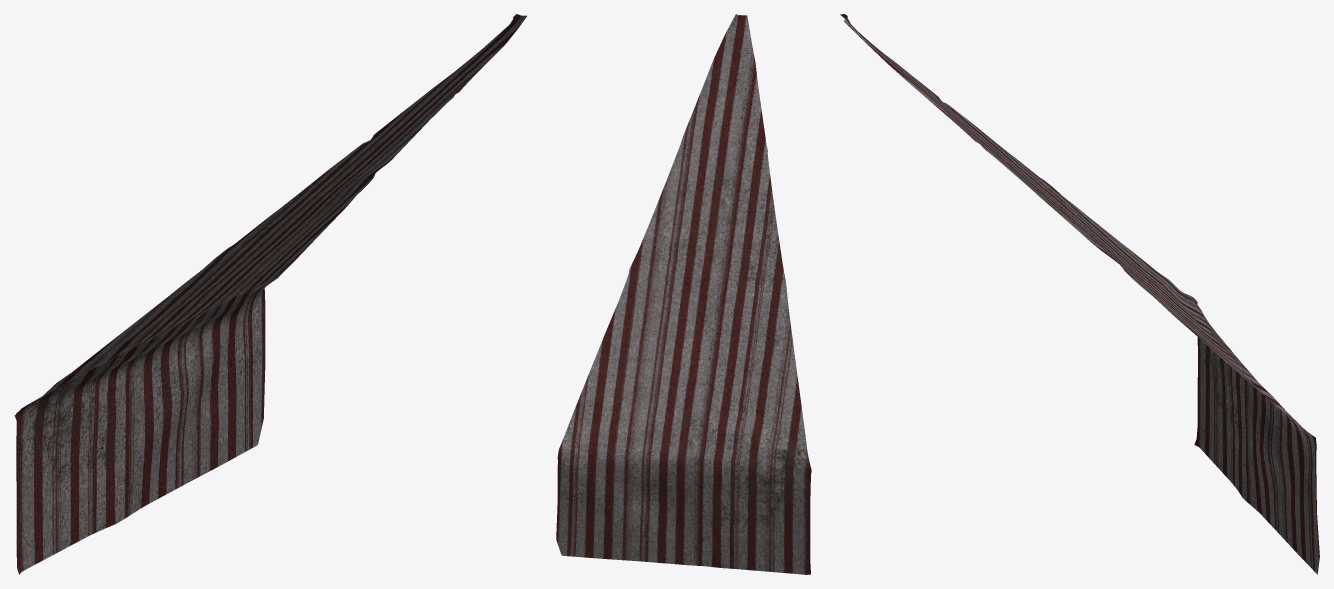
Rendered from Tent_P_Rag05.FBX.
3 views of the same model, side by side, from view 1: azimuth 30°, elevation 25°; view 2: azimuth 150°, elevation 25°; view 3: azimuth 270°, elevation 25° (orthographic). The views are drawn at different scales.
Parts seen in each view (by area): view 1: Tent_P_Rag05; view 2: Tent_P_Rag05; view 3: Tent_P_Rag05.
Boxes of the visible parts, x1,y1,x2,y2 form: Tent_P_Rag05: (14,14,526,574); Tent_P_Rag05: (556,14,811,574); Tent_P_Rag05: (840,14,1319,574).
Bounding box in the file's own units: 920 × 1730 × 1343.
